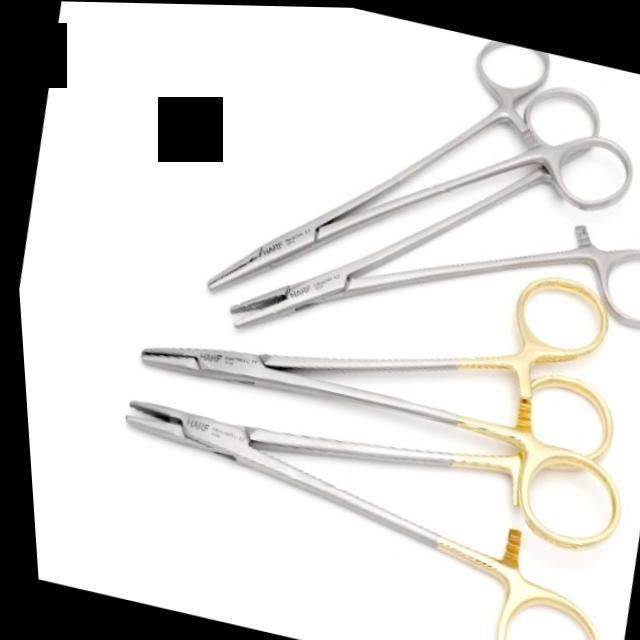Needle Holder: (105, 177, 640, 544), (170, 3, 623, 370), (202, 48, 640, 424), (74, 351, 630, 640)
